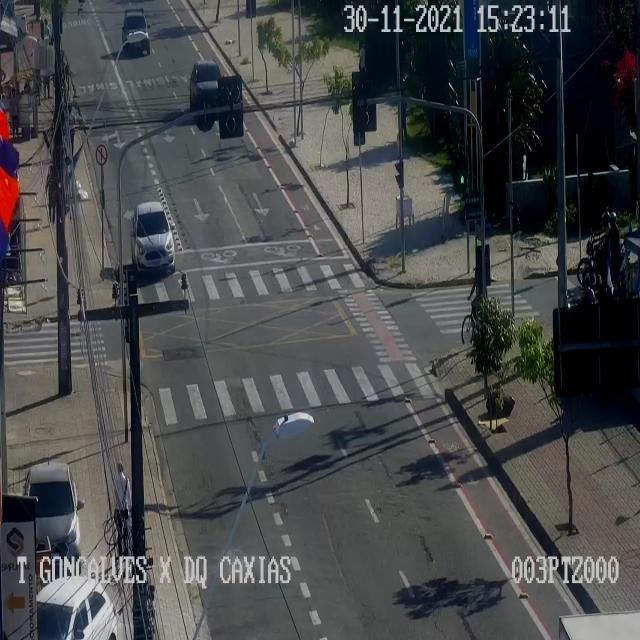Car: (25, 461, 83, 554), (37, 574, 117, 639), (128, 198, 174, 275), (187, 58, 220, 120), (121, 8, 151, 58)
Motorcycle: (577, 208, 631, 287), (583, 212, 630, 292)
